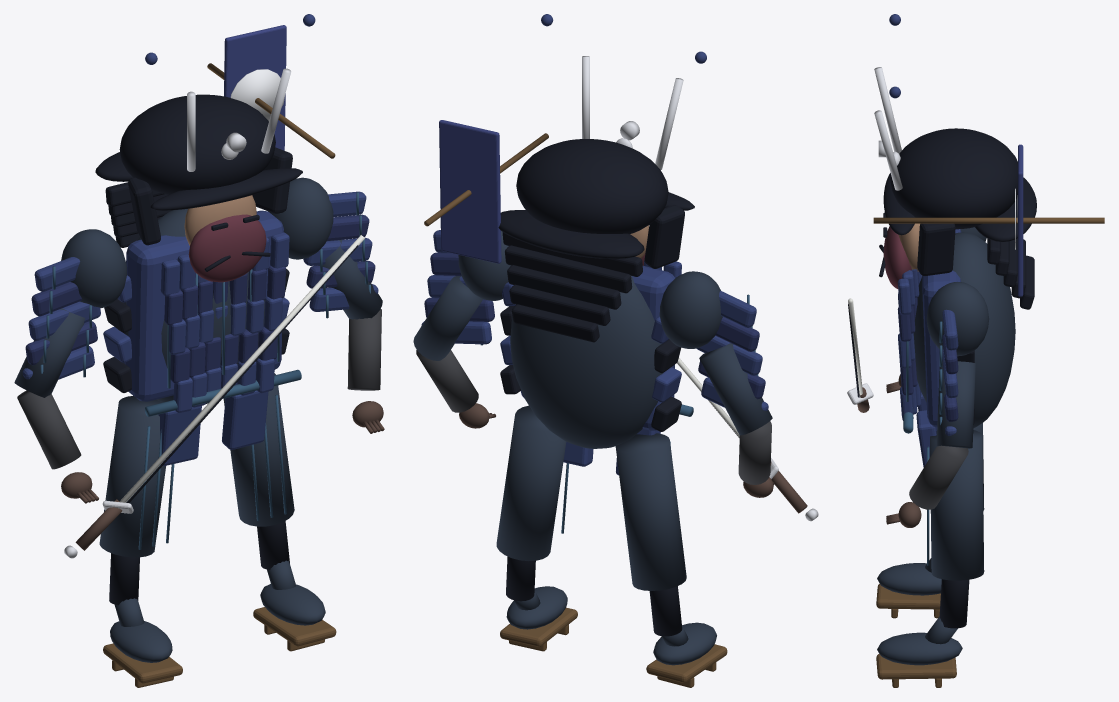
File: uesugi-06.glb
3 renders of one model, left to right at view 1: azimuth 30°, elevation 25°; view 2: azimuth 150°, elevation 25°; view 3: azimuth 270°, elevation 25°, orthographic. The views are drawn at different scales.
Visible parts, largest first — view 1: kabuto_helmet_bowl, do_cuirass_core, left_hakama_outer_fold, right_hakama_outer_fold, mempo_cheek_mask, left_rounded_shoulder_undercloth, right_rounded_shoulder_undercloth, banner_cloth, left_forearm_kote, helmet_front_brim, right_forearm_kote, left_upper_arm_cloth (+48 smaller); view 2: cloth_torso_underlayer, kabuto_helmet_bowl, left_hakama_outer_fold, banner_cloth, right_hakama_outer_fold, left_rounded_shoulder_undercloth, helmet_rear_flare, left_upper_arm_cloth, right_upper_arm_cloth, shikoro_neck_guard_1, shikoro_neck_guard_2, shikoro_neck_guard_3 (+24 smaller); view 3: kabuto_helmet_bowl, cloth_torso_underlayer, right_hakama_outer_fold, right_rounded_shoulder_undercloth, right_upper_arm_cloth, right_forearm_kote, right_tabi_sock, do_cuirass_core, right_fukigaeshi_flare, left_tabi_sock, banner_pole, right_geta_sole (+17 smaller).
Part boxes in pixels (<box>): kabuto_helmet_bowl: <box>119,94,275,194</box>; do_cuirass_core: <box>124,210,283,401</box>; left_hakama_outer_fold: <box>99,396,165,557</box>; right_hakama_outer_fold: <box>223,373,294,526</box>; mempo_cheek_mask: <box>188,214,266,282</box>; left_rounded_shoulder_undercloth: <box>61,229,126,308</box>; right_rounded_shoulder_undercloth: <box>268,177,333,259</box>; banner_cloth: <box>224,25,286,150</box>; left_forearm_kote: <box>17,390,81,469</box>; helmet_front_brim: <box>150,168,302,210</box>; right_forearm_kote: <box>347,309,381,390</box>; left_upper_arm_cloth: <box>14,308,85,397</box>; cloth_torso_underlayer: <box>510,276,662,448</box>; kabuto_helmet_bowl: <box>516,139,668,233</box>; left_hakama_outer_fold: <box>615,433,686,590</box>; banner_cloth: <box>439,120,501,263</box>; right_hakama_outer_fold: <box>496,405,566,561</box>; left_rounded_shoulder_undercloth: <box>659,271,722,348</box>; helmet_rear_flare: <box>498,210,644,258</box>; left_upper_arm_cloth: <box>699,343,772,435</box>; right_upper_arm_cloth: <box>413,276,482,360</box>; shikoro_neck_guard_1: <box>505,245,632,293</box>; shikoro_neck_guard_2: <box>507,265,621,309</box>; shikoro_neck_guard_3: <box>509,284,610,325</box>; kabuto_helmet_bowl: <box>890,128,1017,229</box>; cloth_torso_underlayer: <box>913,232,1015,428</box>; right_hakama_outer_fold: <box>930,430,984,580</box>; right_rounded_shoulder_undercloth: <box>926,282,989,356</box>; right_upper_arm_cloth: <box>936,361,975,448</box>; right_forearm_kote: <box>909,445,968,509</box>; right_tabi_sock: <box>877,632,962,665</box>; do_cuirass_core: <box>922,229,961,427</box>; right_fukigaeshi_flare: <box>917,223,955,275</box>; left_tabi_sock: <box>877,563,941,595</box>; banner_pole: <box>873,217,1104,223</box>; right_geta_sole: <box>876,654,956,679</box>.
Bounding box in the file's own units: 1.19 × 1.99 × 0.7802.
